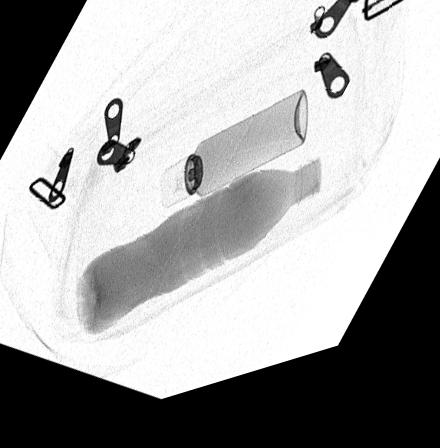Sprayer: (157, 106, 307, 217)
